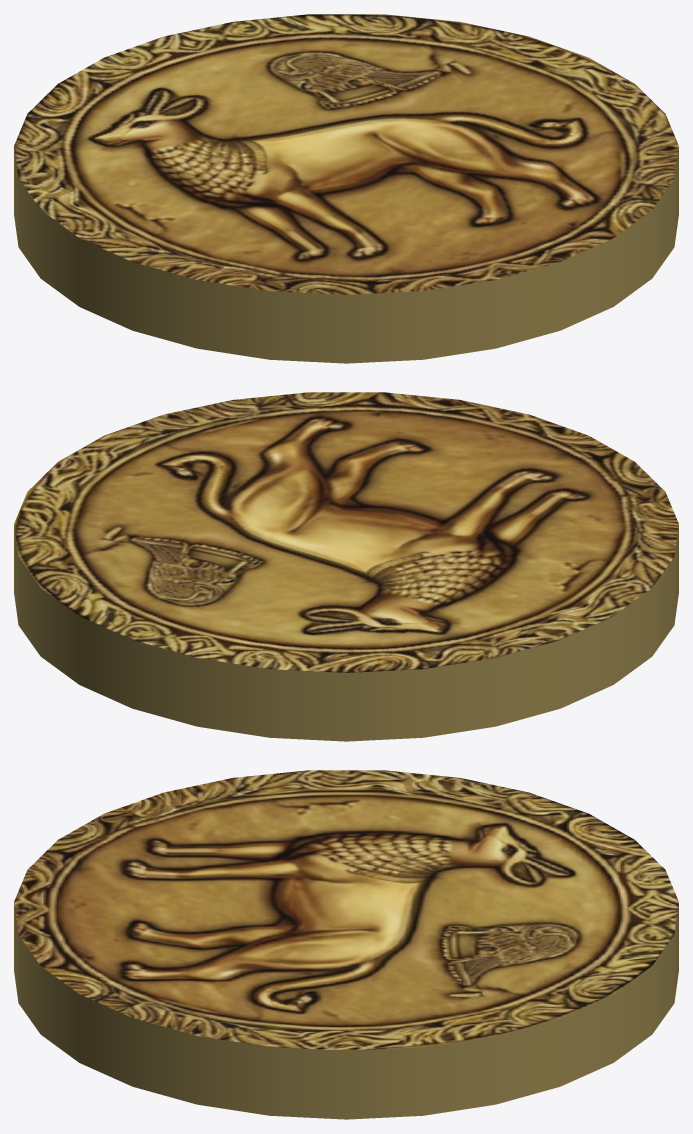
File: Coin 5.fbx
The picture shows the model from 3 angles, top to bottom: view 1: azimuth 30°, elevation 25°; view 2: azimuth 150°, elevation 25°; view 3: azimuth 270°, elevation 25°; orthographic projection.
Parts seen in each view (by area): view 1: polySurface18; view 2: polySurface18; view 3: polySurface18.
Part boxes in pixels (box(x1,y1,x2,y2)): polySurface18: box(14, 14, 678, 363); polySurface18: box(14, 392, 678, 741); polySurface18: box(14, 770, 678, 1119).
Size of the model in its own units: 7.82 by 0.8921 by 7.83.
